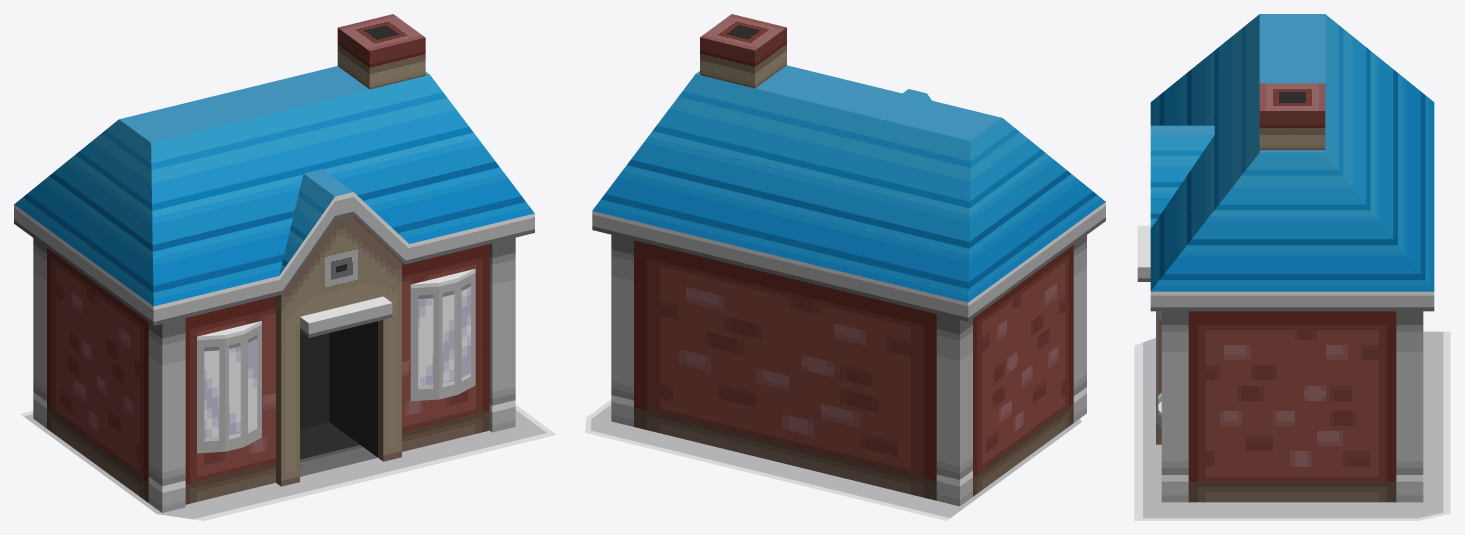
The model's file is Accumula Town House.glb.
3 renders of one model, left to right at view 1: azimuth 30°, elevation 25°; view 2: azimuth 150°, elevation 25°; view 3: azimuth 270°, elevation 25°, orthographic. The views are drawn at different scales.
Parts seen in each view (by area): view 1: Accumula Town House; view 2: Accumula Town House; view 3: Accumula Town House.
Boxes of the visible parts, x1=… form: Accumula Town House: x1=14, y1=14, x2=546, y2=518; Accumula Town House: x1=590, y1=14, x2=1105, y2=517; Accumula Town House: x1=1137, y1=14, x2=1443, y2=518.
Size of the model in its own units: 85.04 by 78.89 by 58.
5 materials, 4 textured.
